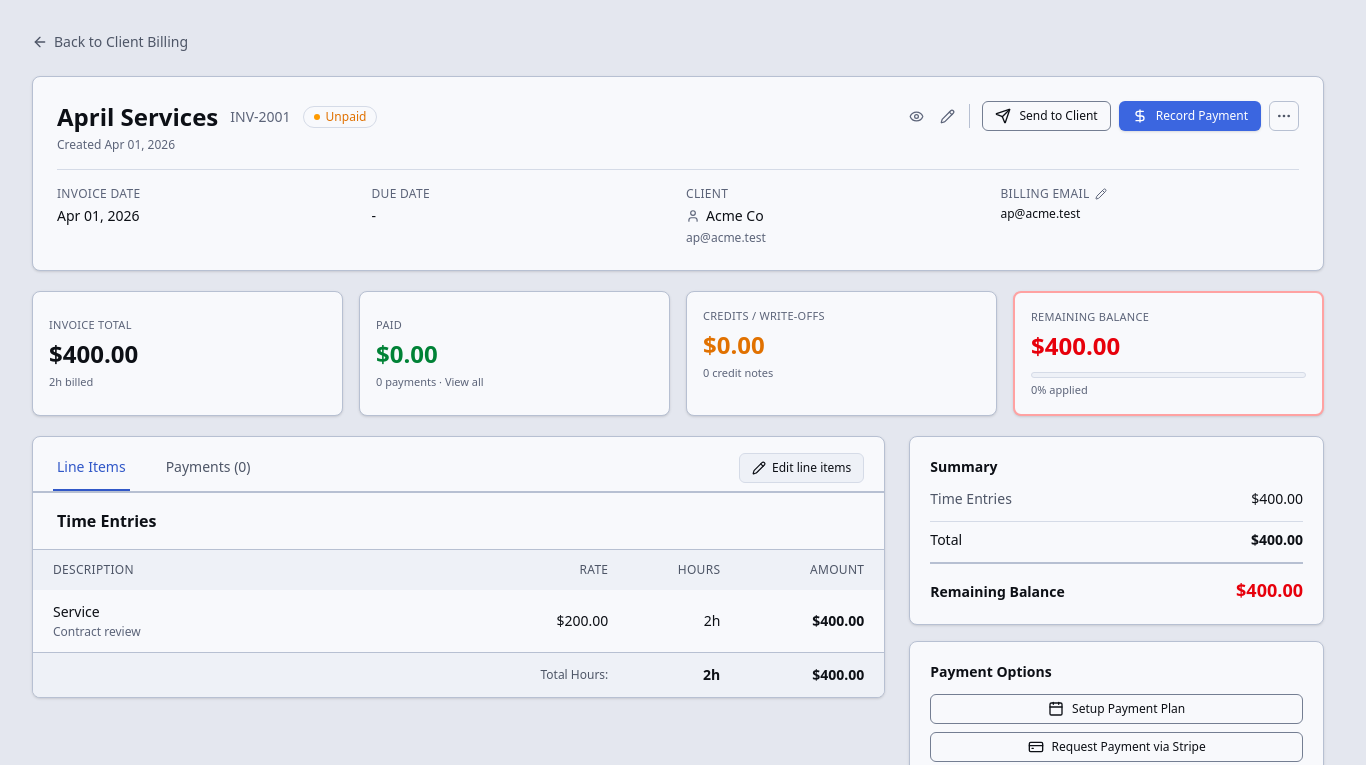
Test: deleting the invoice › stays on the invoice with the refusal shown when the delete is rejected
The width and height of the screenshot is (1366, 765).
Click the button named "More actions": click(1284, 116) [1269, 101, 1299, 131]
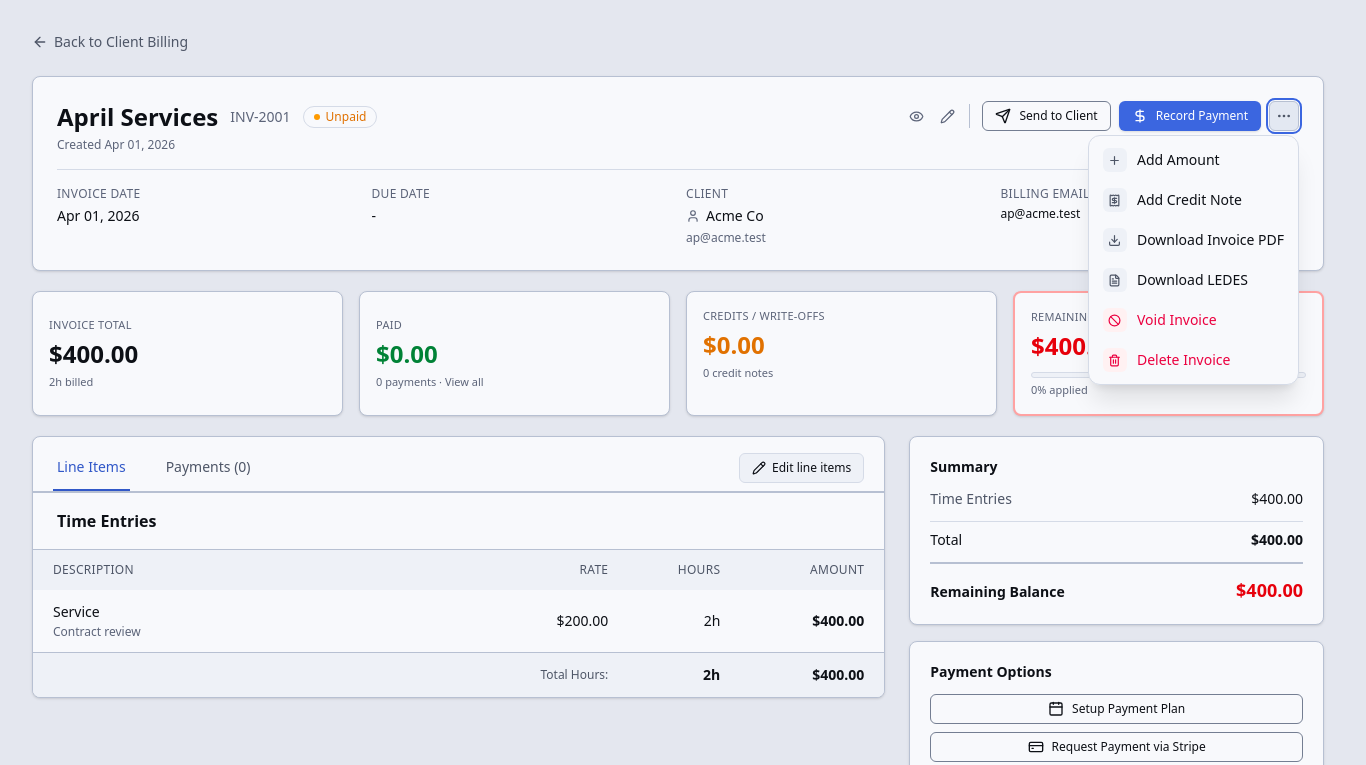
Click the button "Delete Invoice": click(1193, 360) [1093, 340, 1294, 380]
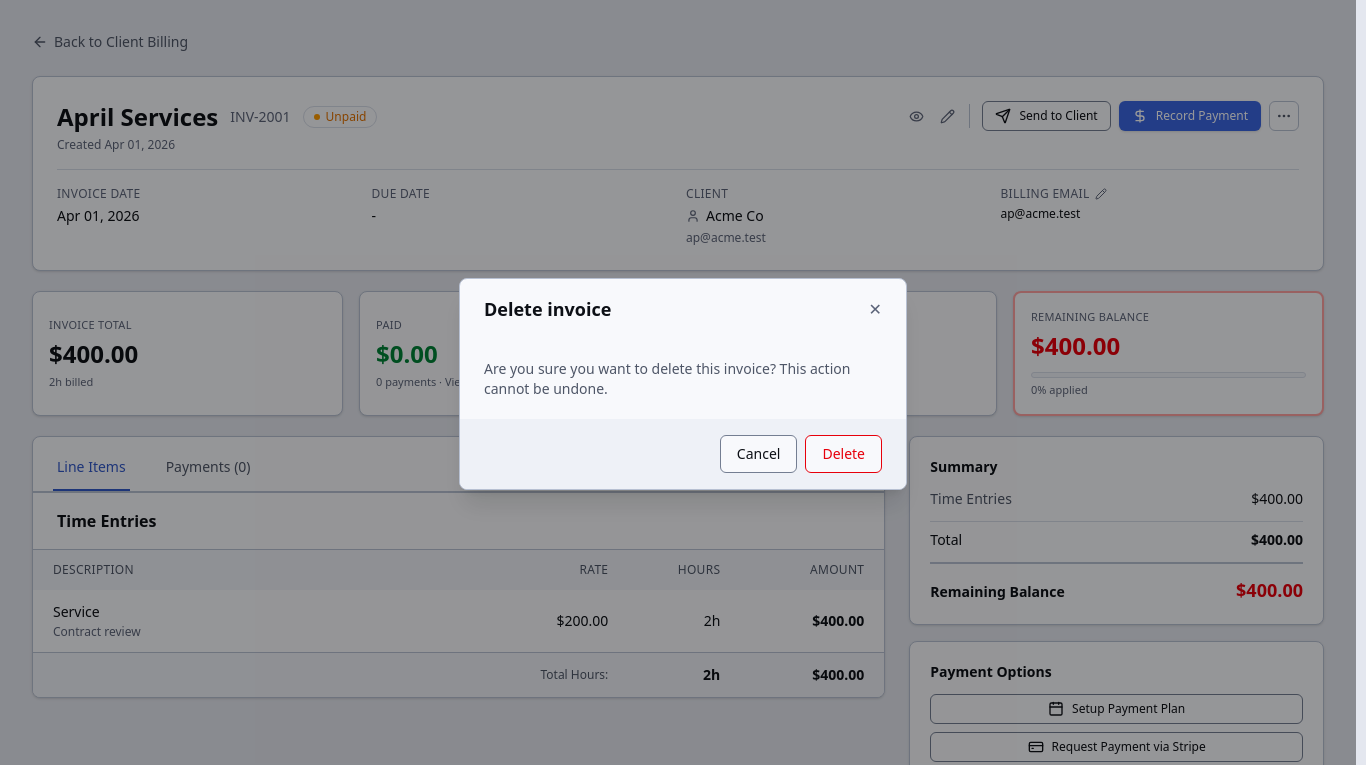
Click the button "Delete": click(844, 454) [805, 435, 882, 473]
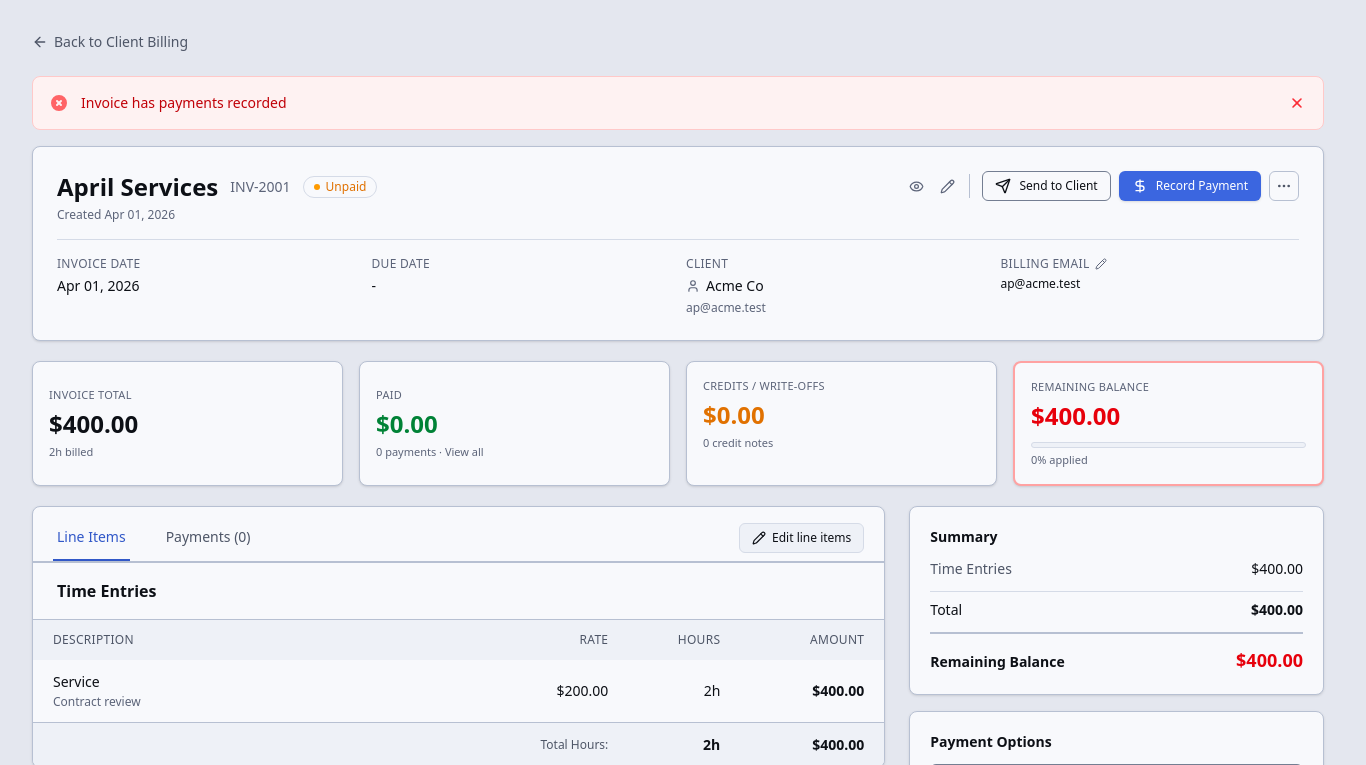
Expected: the heading "April Services" is shown, [57, 171, 218, 203]
Result: the text "Invoice has payments recorded" is shown at [81, 93, 287, 112]
